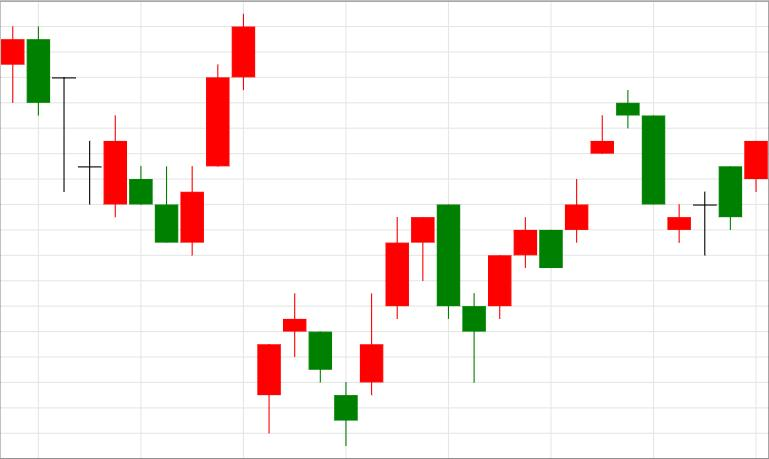bearish_engulfing_fall: (334, 204, 460, 446)
bullish_engulfing_rise: (26, 13, 204, 256)
hanging_man_fall: (334, 218, 434, 446)
three_white_soldiers_rise: (26, 13, 256, 256)
